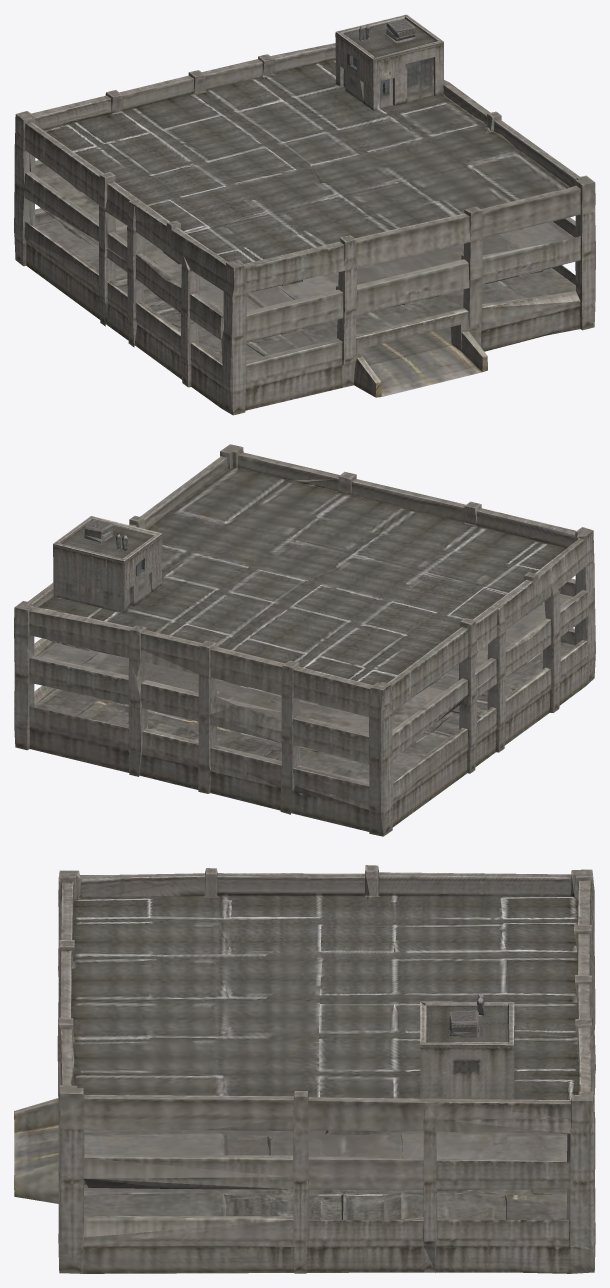
File: bld-garage.glb
The picture shows the model from 3 angles, top to bottom: view 1: azimuth 30°, elevation 25°; view 2: azimuth 150°, elevation 25°; view 3: azimuth 270°, elevation 25°; orthographic projection. The views are drawn at different scales.
Visible parts, largest first — view 1: output_unwrapped; view 2: output_unwrapped; view 3: output_unwrapped.
Part boxes in pixels (x1,y1,x2,y2): output_unwrapped: [14, 14, 595, 415]; output_unwrapped: [14, 444, 595, 836]; output_unwrapped: [14, 865, 595, 1273].
Bounding box in the file's own units: 1.73 × 0.8667 × 1.9.
Materials: 1 (1 with a texture image).
